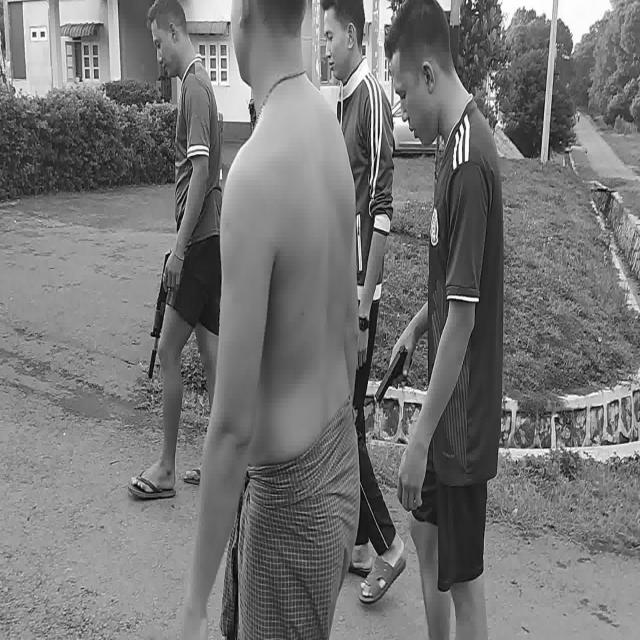gun: (148, 252, 171, 378), (372, 345, 412, 403)
